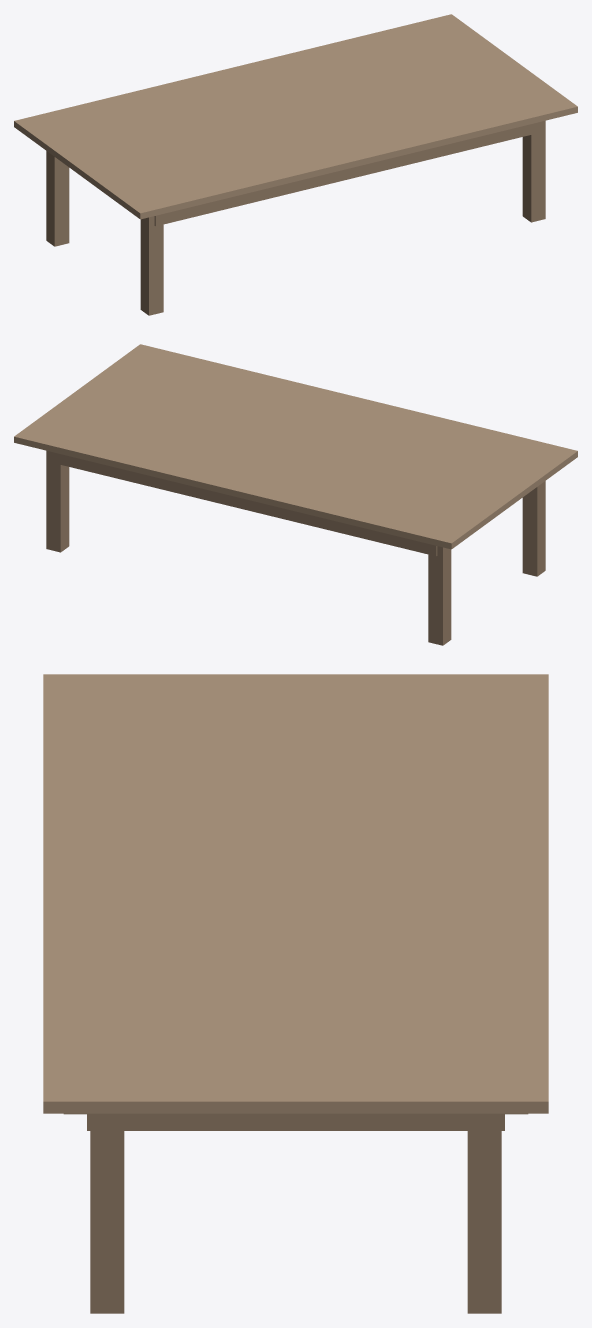
The model's file is dining-table.gltf.
3 views of the same model, one above another, from view 1: azimuth 30°, elevation 25°; view 2: azimuth 150°, elevation 25°; view 3: azimuth 270°, elevation 25° (orthographic). The views are drawn at different scales.
Visible parts, largest first — view 1: top, apron_r, leg_bl, leg_br, leg_fl; view 2: top, apron_l, leg_fl, leg_fr, leg_bl; view 3: top, leg_fr, leg_br, apron_w, top_band.
Boxes of the visible parts, x1,y1,x2,y2 form: top: (14, 14, 577, 219); apron_r: (154, 122, 540, 226); leg_bl: (140, 216, 163, 315); leg_br: (522, 120, 545, 222); leg_fl: (46, 151, 69, 246); top: (14, 344, 577, 549); apron_l: (51, 452, 437, 556); leg_fl: (428, 546, 451, 645); leg_fr: (46, 450, 69, 552); leg_bl: (522, 481, 545, 576); top: (43, 674, 548, 1113); leg_fr: (467, 1114, 501, 1313); leg_br: (90, 1114, 124, 1313); apron_w: (124, 1114, 467, 1130); top_band: (64, 1113, 527, 1114).
Bounding box in the file's own units: 0.1875 × 0.0475 × 0.0938.
